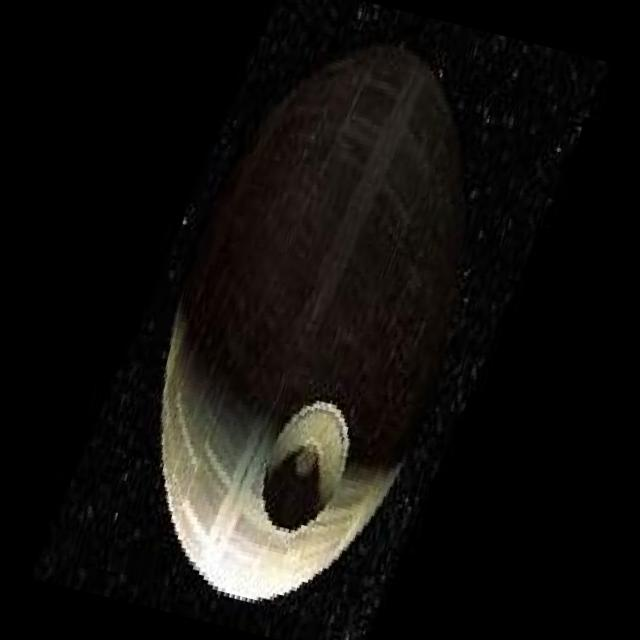Death Star: (104, 0, 521, 634)
